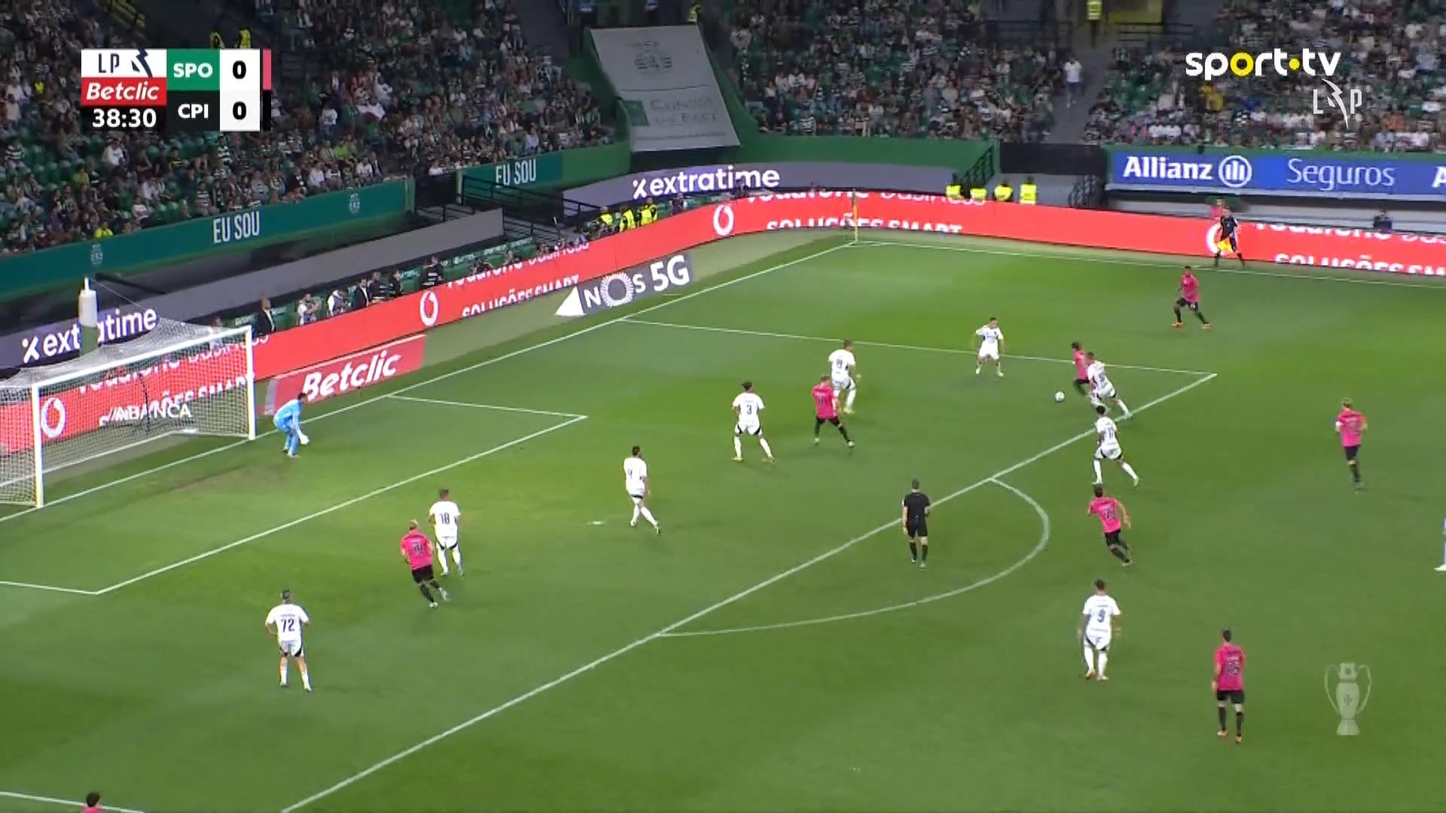ball: (1054, 390, 1064, 402)
goalkeeper: (272, 391, 310, 458)
player: (264, 588, 313, 692), (399, 519, 450, 609), (1077, 577, 1121, 681), (1210, 627, 1246, 744), (1091, 403, 1139, 488), (1086, 483, 1133, 567), (730, 379, 775, 462), (622, 444, 660, 535), (426, 487, 464, 577), (1083, 350, 1132, 419), (810, 374, 855, 449), (1334, 397, 1368, 491), (827, 338, 861, 416), (1171, 264, 1210, 329), (973, 315, 1005, 377), (1069, 340, 1092, 396)
referee: (901, 478, 931, 568), (1212, 206, 1246, 268)
